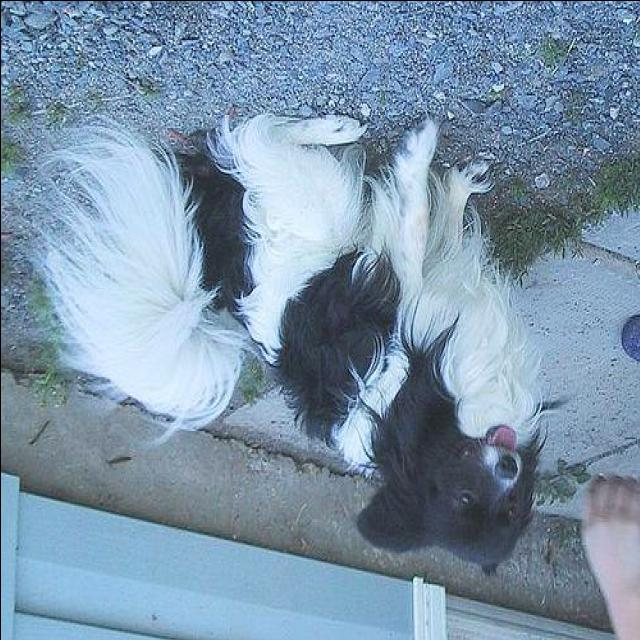papillon: (45, 109, 539, 575)
